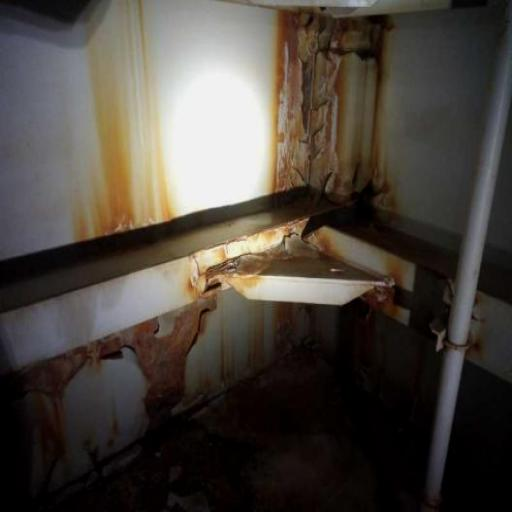Detect-rust-on-metal-surfaces: (0, 232, 289, 511), (266, 9, 421, 334), (232, 312, 431, 509), (60, 0, 179, 252), (458, 326, 491, 365)
